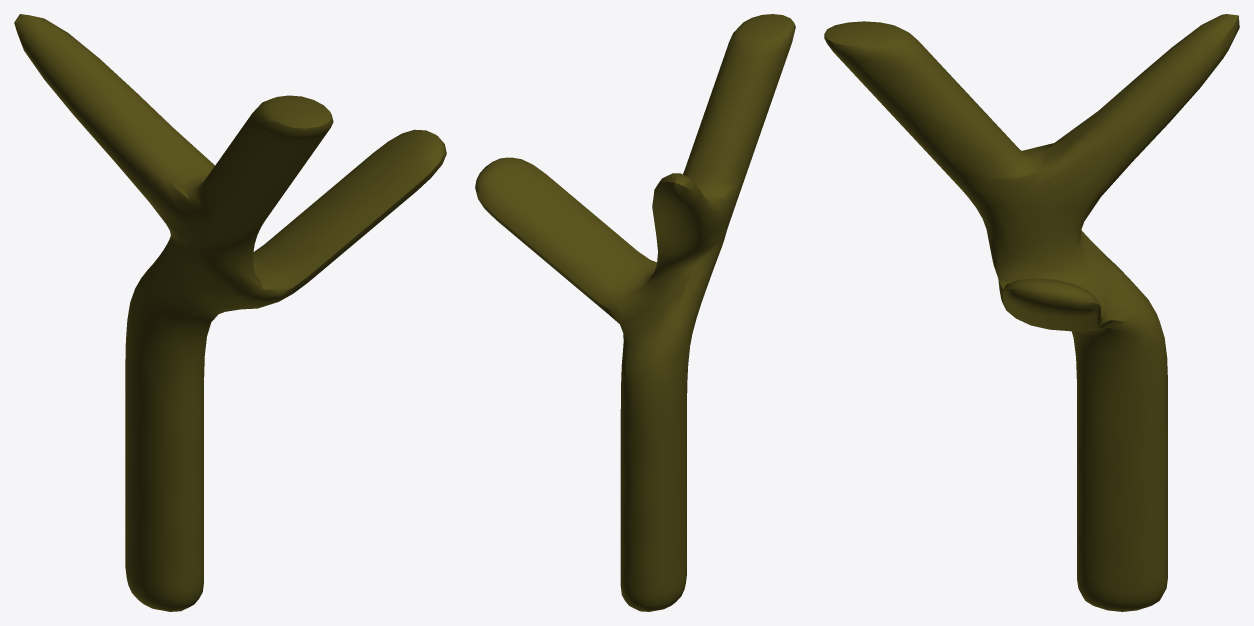
File: Dead Tree 2.fbx
3 renders of one model, left to right at view 1: azimuth 30°, elevation 25°; view 2: azimuth 150°, elevation 25°; view 3: azimuth 270°, elevation 25°, orthographic. The views are drawn at different scales.
Visible parts, largest first — view 1: Cube; view 2: Cube; view 3: Cube.
Part boxes in pixels (x1,y1,x2,y2): Cube: (14, 14, 446, 611); Cube: (475, 14, 795, 611); Cube: (824, 14, 1239, 611).
Size of the model in its own units: 137 by 234 by 153.
